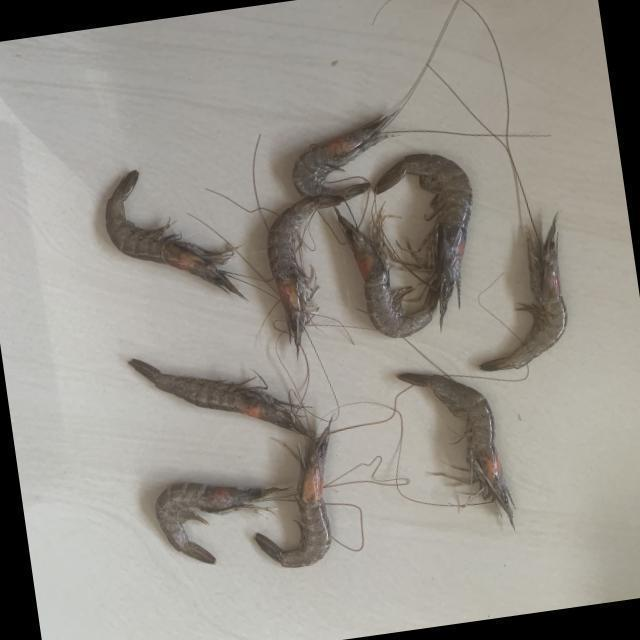shrimp: (398, 374, 515, 530), (105, 170, 245, 300), (267, 183, 370, 354), (376, 154, 473, 326), (480, 214, 568, 372), (128, 360, 307, 436), (338, 214, 440, 338), (255, 425, 332, 568), (155, 483, 283, 565), (292, 112, 397, 198)
